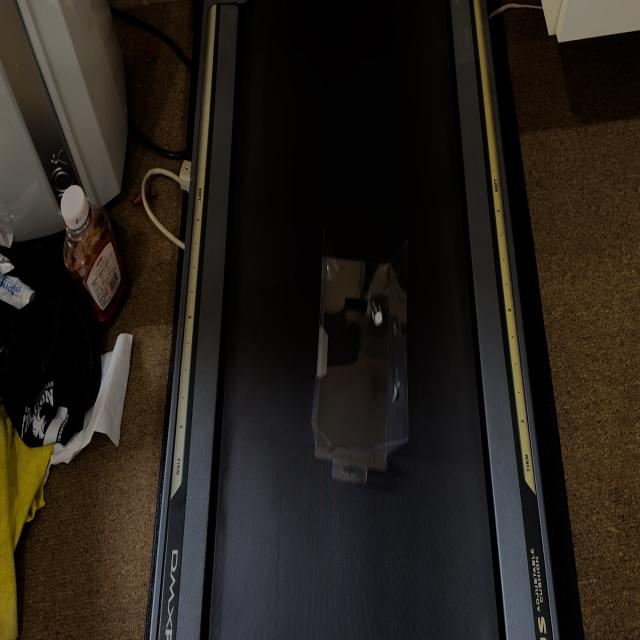Trash: (308, 222, 412, 494)
